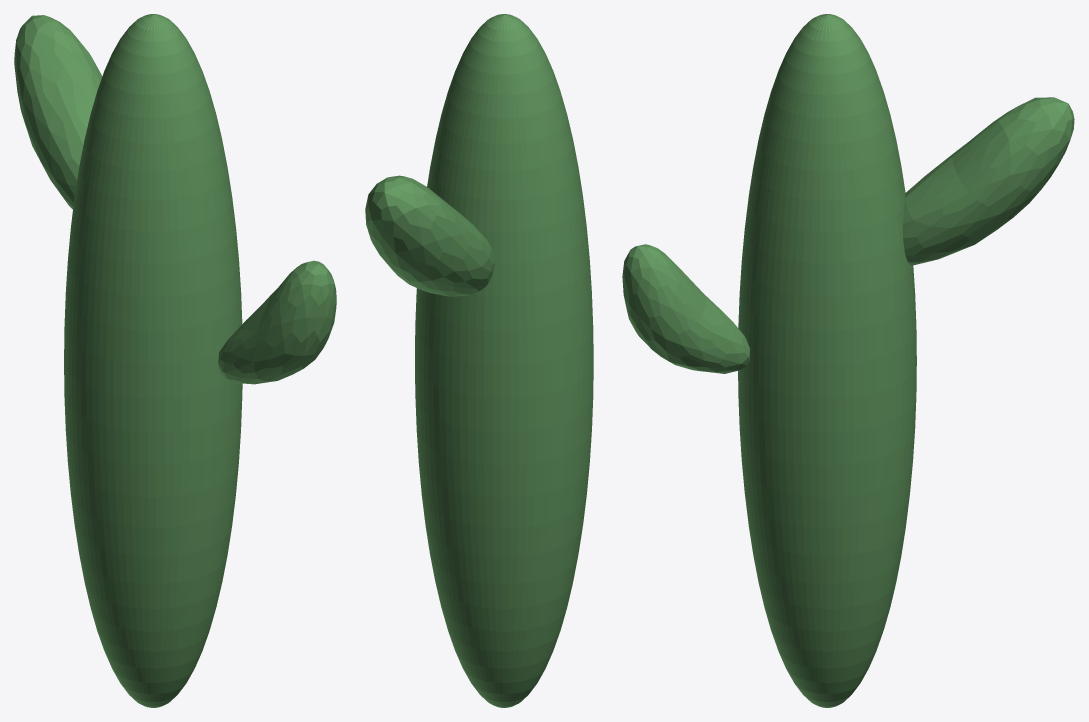
File: cactus.fbx
3 renders of one model, left to right at view 1: azimuth 30°, elevation 25°; view 2: azimuth 150°, elevation 25°; view 3: azimuth 270°, elevation 25°, orthographic.
Visible parts, largest first — view 1: Sphere; view 2: Sphere; view 3: Sphere.
Part boxes in pixels (x1,y1,x2,y2): Sphere: (14, 14, 336, 707); Sphere: (365, 14, 593, 707); Sphere: (622, 14, 1074, 707).
Size of the model in its own units: 2.18 by 8.45 by 5.
